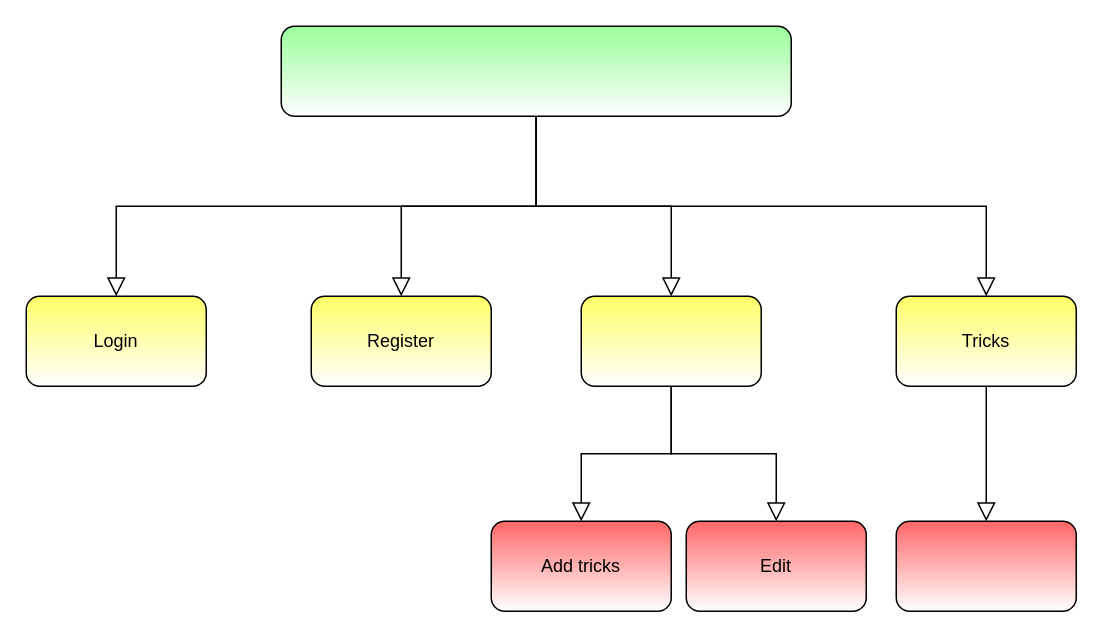
This 1103x638 diagram has some shape labels left out. The centre of each missing label's shape, as x and y in pixels:
Home Page: pixel 535 70
Modify Tricks: pixel 985 565
Profil: pixel 670 340
